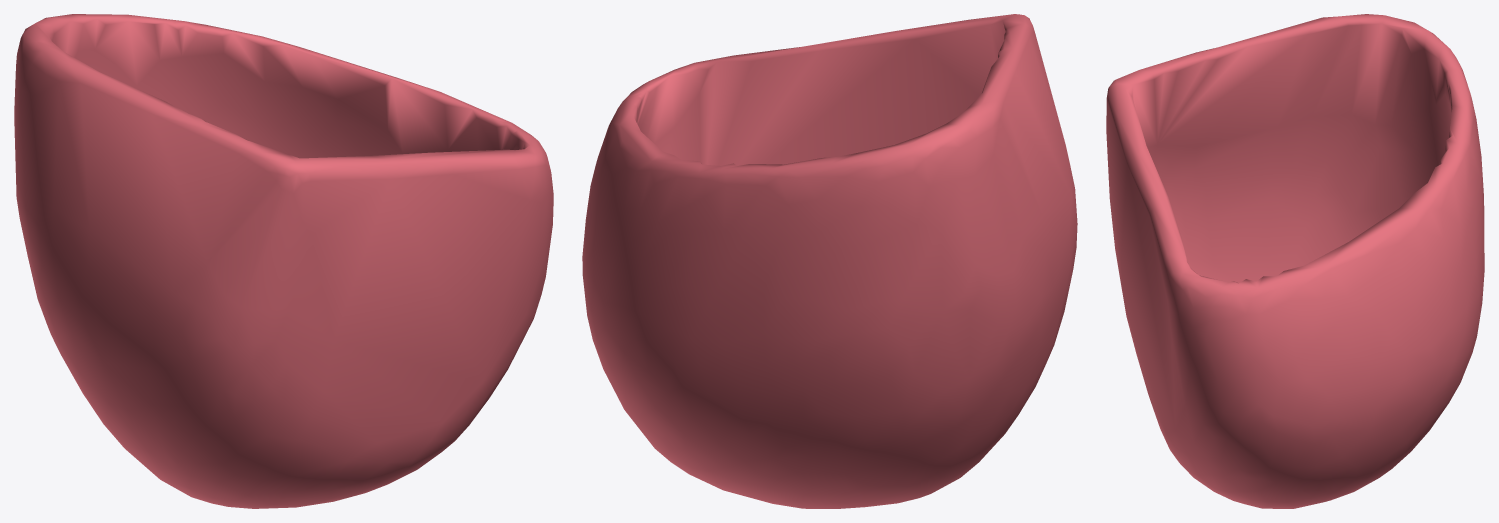
The picture shows the model from 3 angles, left to right: view 1: azimuth 30°, elevation 25°; view 2: azimuth 150°, elevation 25°; view 3: azimuth 270°, elevation 25°; orthographic projection. The views are drawn at different scales.
Visible parts, largest first — view 1: ZA_fbec17b9c698ab6d; view 2: ZA_fbec17b9c698ab6d; view 3: ZA_fbec17b9c698ab6d.
Boxes of the visible parts, x1=… form: ZA_fbec17b9c698ab6d: x1=14, y1=14, x2=553, y2=508; ZA_fbec17b9c698ab6d: x1=582, y1=14, x2=1077, y2=508; ZA_fbec17b9c698ab6d: x1=1106, y1=14, x2=1484, y2=508.
Size of the model in its own units: 0.0178 by 0.0171 by 0.0152.
